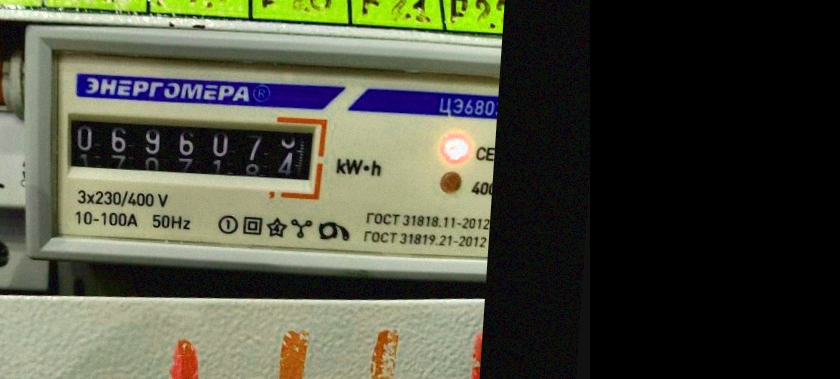0: (210, 127, 230, 158), (75, 122, 94, 151)
4: (276, 147, 295, 177)
6: (109, 123, 128, 153), (177, 126, 196, 156)
7: (244, 130, 265, 163)
9: (142, 126, 162, 155)
screen: (51, 97, 333, 199)
